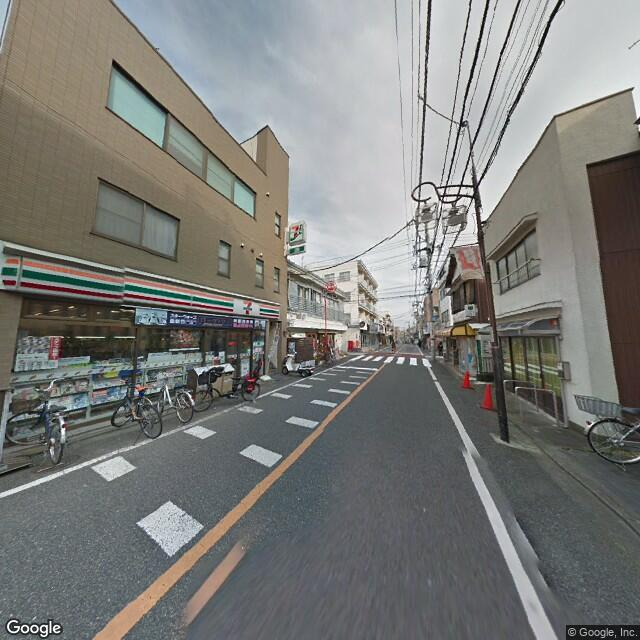7-eleven: (1, 252, 280, 326), (286, 216, 308, 250)
